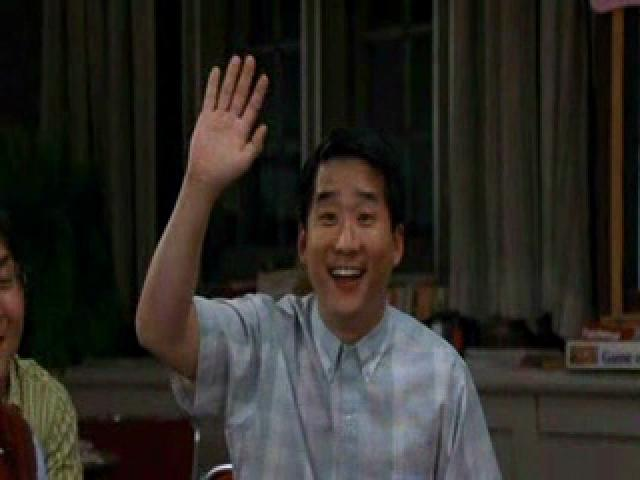T: (125, 40, 513, 480)
